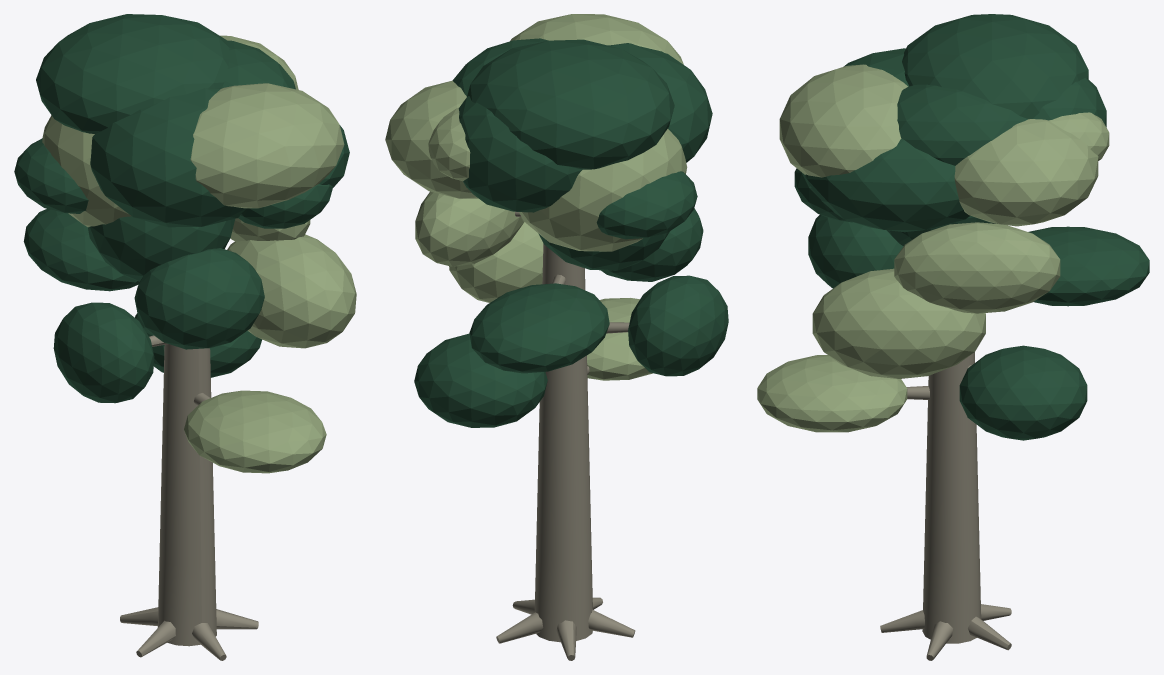
The model's file is forked-ghostwood.glb.
3 views of the same model, side by side, from view 1: azimuth 30°, elevation 25°; view 2: azimuth 150°, elevation 25°; view 3: azimuth 270°, elevation 25° (orthographic).
Parts seen in each view (by area): view 1: crown-5, crown-0, trunk, crown-8, foliage-5, foliage-3, foliage-0, foliage-2, crown-7, foliage-4, crown-6, foliage-7 (+10 smaller); view 2: crown-5, trunk, foliage-4, foliage-2, foliage-1, crown-4, crown-6, foliage-6, crown-3, foliage-7, foliage-3, crown-8 (+9 smaller); view 3: trunk, crown-5, foliage-3, foliage-6, crown-3, crown-0, foliage-1, crown-1, foliage-0, foliage-4, crown-2, foliage-5 (+7 smaller).
Part boxes in pixels (x1=…): crown-5: x1=36, y1=14, x2=229, y2=133; crown-0: x1=190, y1=83, x2=344, y2=208; trunk: x1=157, y1=344, x2=216, y2=646; crown-8: x1=90, y1=87, x2=246, y2=227; foliage-5: x1=134, y1=248, x2=264, y2=349; foliage-3: x1=227, y1=234, x2=356, y2=348; foliage-0: x1=184, y1=390, x2=326, y2=473; foliage-2: x1=53, y1=302, x2=154, y2=403; crown-7: x1=88, y1=216, x2=235, y2=281; foliage-4: x1=23, y1=208, x2=139, y2=291; crown-6: x1=42, y1=115, x2=131, y2=227; foliage-7: x1=14, y1=138, x2=88, y2=213; crown-5: x1=467, y1=39, x2=674, y2=169; trunk: x1=534, y1=243, x2=592, y2=642; foliage-4: x1=469, y1=283, x2=609, y2=373; foliage-2: x1=628, y1=275, x2=728, y2=376; foliage-1: x1=414, y1=333, x2=547, y2=427; crown-4: x1=458, y1=96, x2=582, y2=212; crown-6: x1=519, y1=129, x2=687, y2=251; foliage-6: x1=415, y1=191, x2=523, y2=266; crown-3: x1=385, y1=80, x2=478, y2=198; foliage-7: x1=596, y1=171, x2=697, y2=239; foliage-3: x1=449, y1=222, x2=543, y2=302; crown-8: x1=608, y1=43, x2=712, y2=162; trunk: x1=922, y1=352, x2=981, y2=643; crown-5: x1=902, y1=14, x2=1088, y2=119; foliage-3: x1=812, y1=268, x2=985, y2=378; foliage-6: x1=894, y1=222, x2=1060, y2=313; crown-3: x1=954, y1=119, x2=1098, y2=226; crown-0: x1=779, y1=64, x2=907, y2=177; foliage-1: x1=959, y1=345, x2=1087, y2=440; crown-1: x1=805, y1=139, x2=970, y2=232; foliage-0: x1=757, y1=355, x2=907, y2=432; foliage-4: x1=1028, y1=226, x2=1149, y2=306; crown-2: x1=897, y1=84, x2=1027, y2=165; foliage-5: x1=808, y1=215, x2=903, y2=288.
Bounding box in the file's own units: 2.81 × 5.81 × 3.51.
